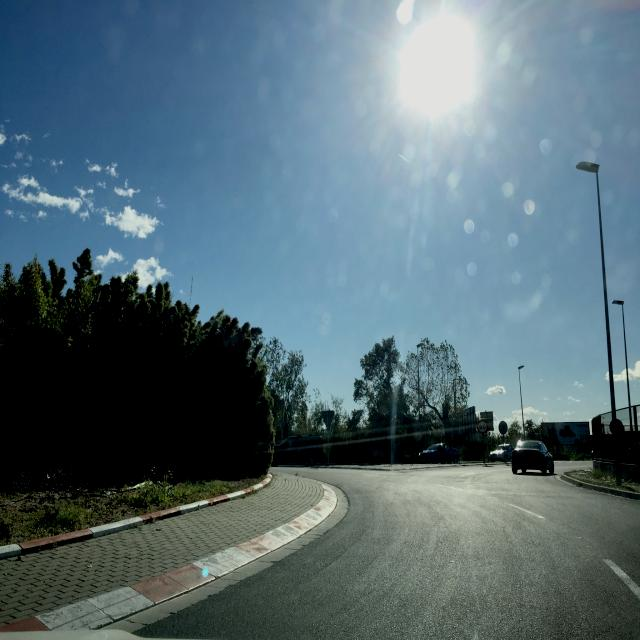car: (511, 440, 555, 476), (419, 442, 460, 463), (489, 444, 513, 461)
